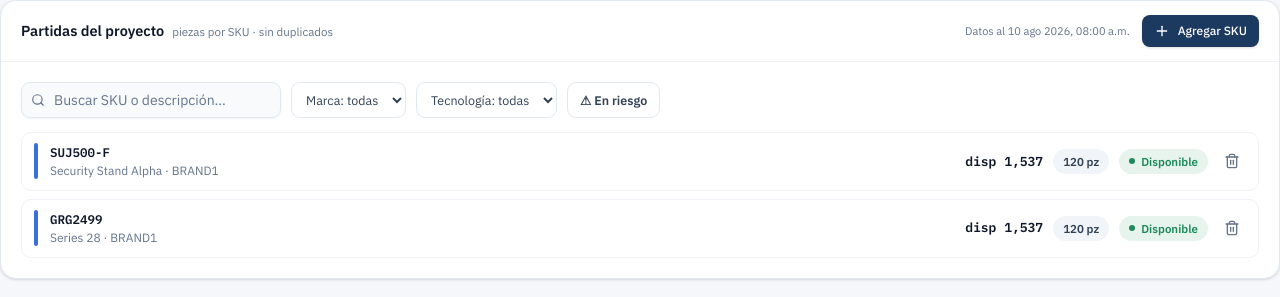
it: ProyectoPartidas › buscador de texto filtra las filas visibles
Type "grg" into the field labelled "Buscar SKU o descripción".
click(151, 100); type("grg")  # box [21, 82, 281, 118]
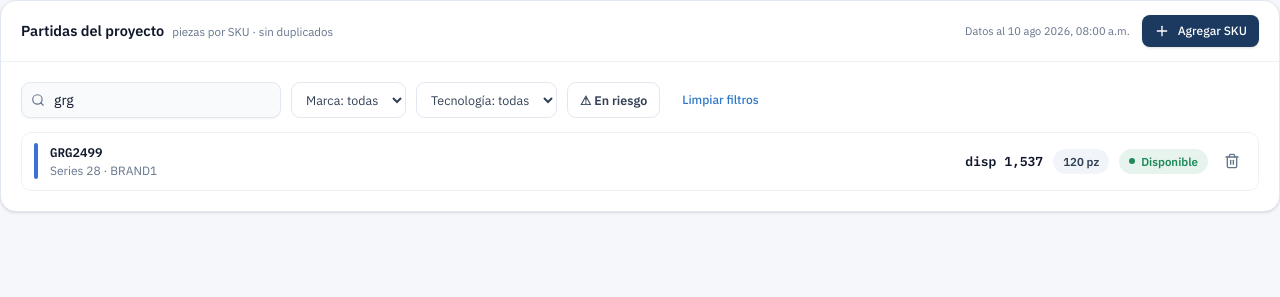
Expected: the text "GRG2499" is shown, [50, 144, 102, 160]
Expected: the text "SUJ500-F" is gone
